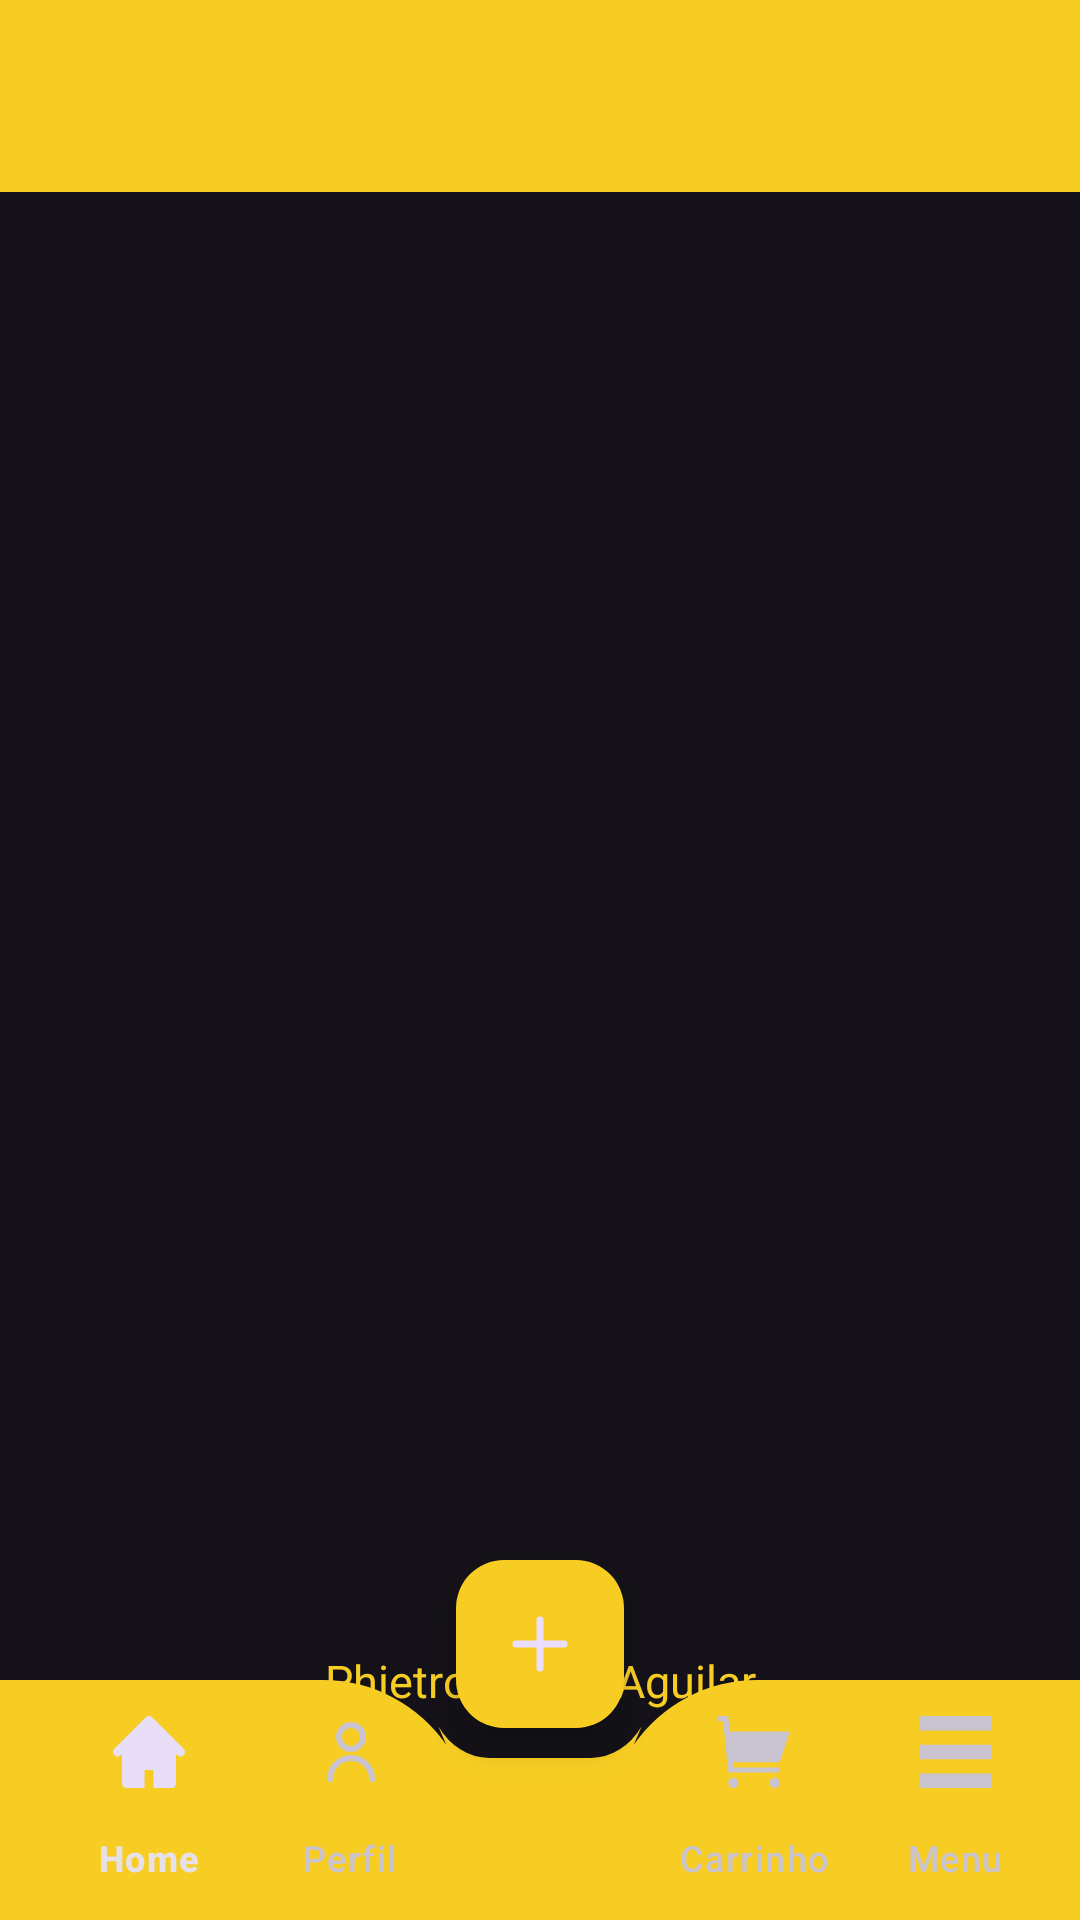

Screen size 1080px x 1920px. Icon name, then its center in pixels as (x=x, y=y):
Adicionar: (x=540, y=1680)
